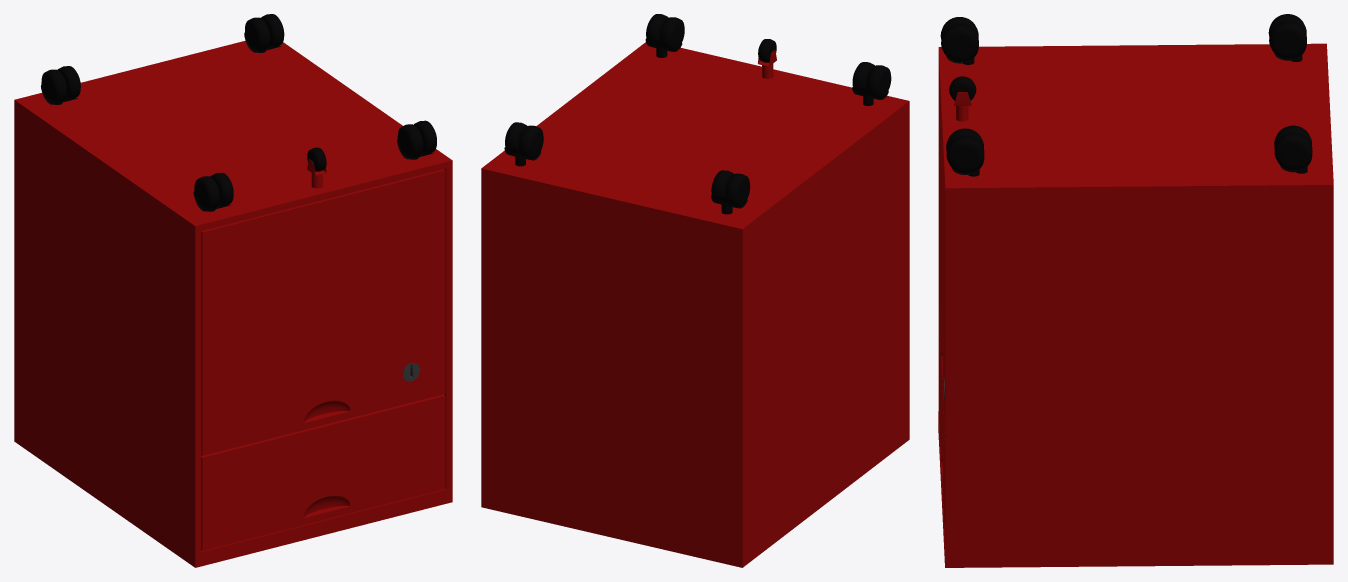
The model's file is IKEA-Erik_Drawer_Lockable-3d.FBX.
3 views of the same model, side by side, from view 1: azimuth 30°, elevation 25°; view 2: azimuth 150°, elevation 25°; view 3: azimuth 270°, elevation 25° (orthographic). The views are drawn at different scales.
Parts seen in each view (by area): view 1: Object08; view 2: Object08; view 3: Object08.
Part boxes in pixels (x1,y1,x2,y2): Object08: (14, 14, 452, 567); Object08: (481, 14, 909, 567); Object08: (938, 14, 1333, 567).
Size of the model in its own units: 0.4197 by 0.4853 by 0.5699.
